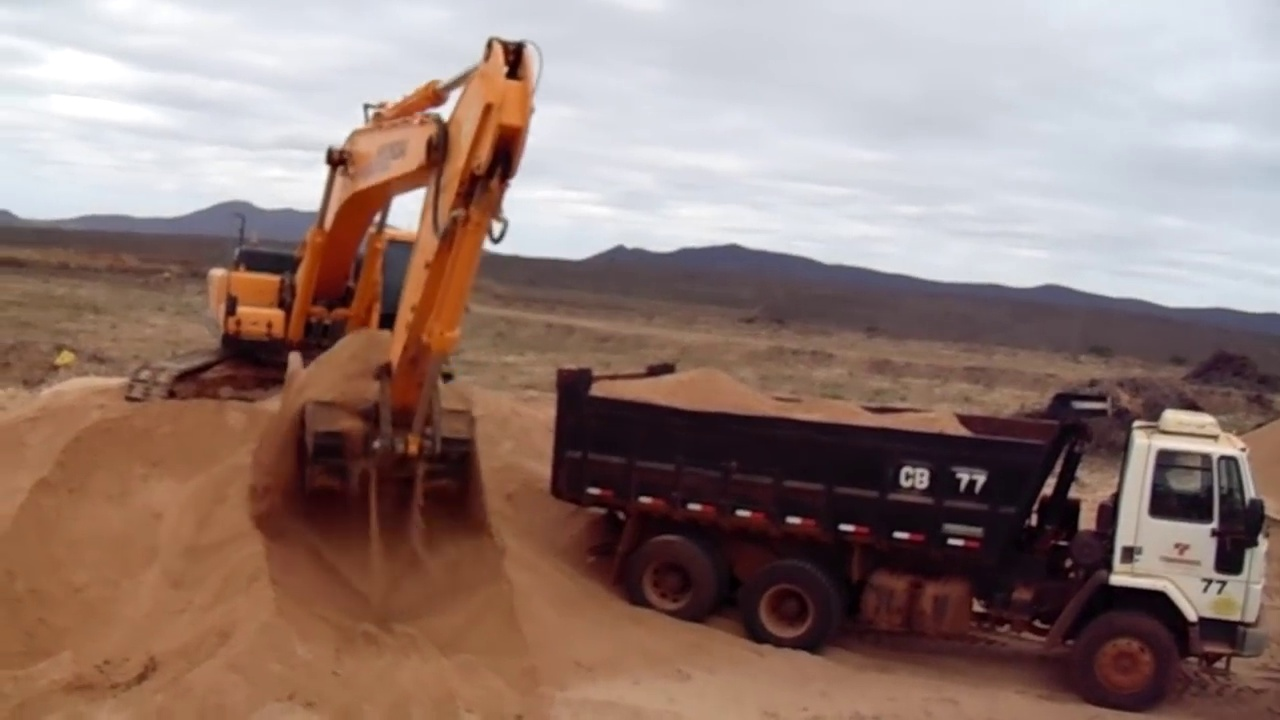excavator: (124, 35, 549, 516)
truck: (553, 362, 1270, 712)
